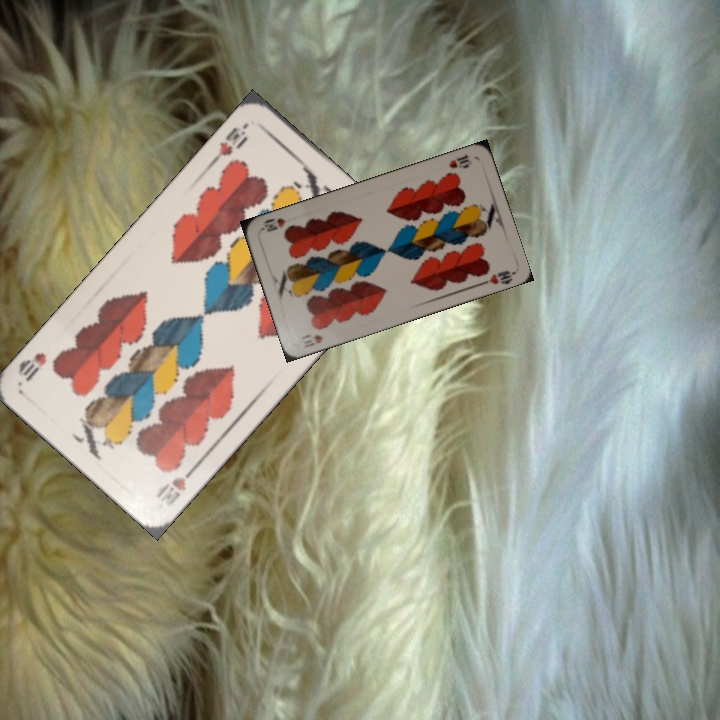H10: (151, 460, 200, 509), (207, 118, 252, 167), (445, 150, 474, 171), (298, 330, 325, 350)
